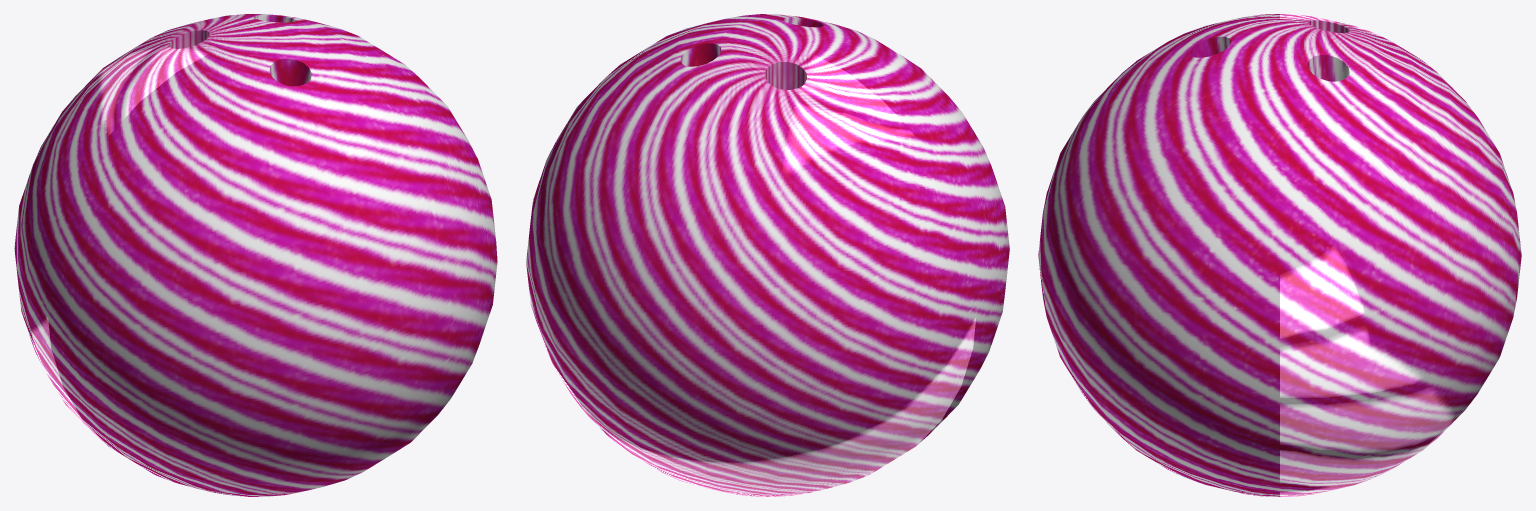
File: SM_Ball_002.fbx
3 views of the same model, side by side, from view 1: azimuth 30°, elevation 25°; view 2: azimuth 150°, elevation 25°; view 3: azimuth 270°, elevation 25° (orthographic).
Parts seen in each view (by area): view 1: SM_Ball_002; view 2: SM_Ball_002; view 3: SM_Ball_002.
Boxes of the visible parts, <box> form: SM_Ball_002: <box>14,14,497,496</box>; SM_Ball_002: <box>526,14,1009,496</box>; SM_Ball_002: <box>1038,14,1521,496</box>.
Size of the model in its own units: 20 by 20 by 20.
Materials: 1 (1 with a texture image).
